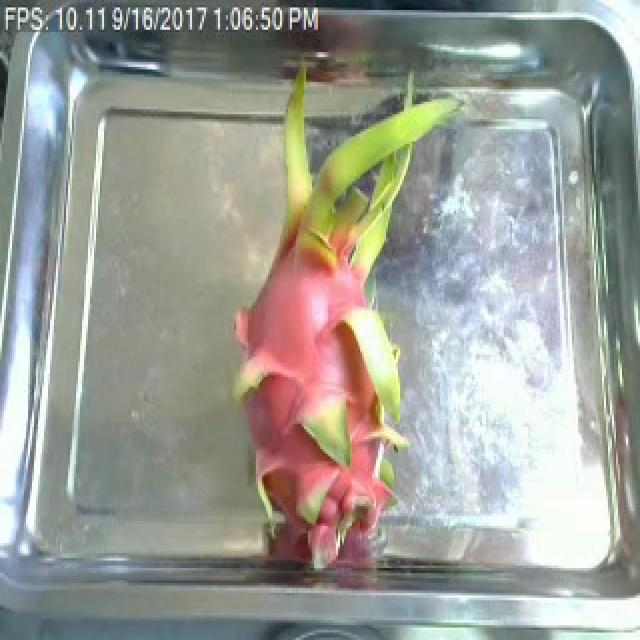fruit: (210, 162, 458, 580)
